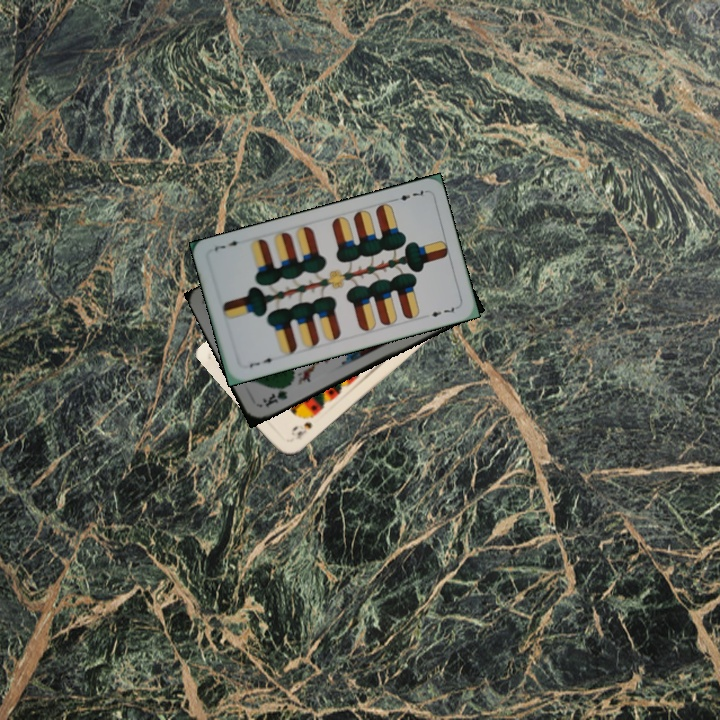E7: (388, 186, 428, 204), (245, 354, 279, 370)
GK: (258, 381, 292, 410)
S10: (291, 418, 314, 443)
